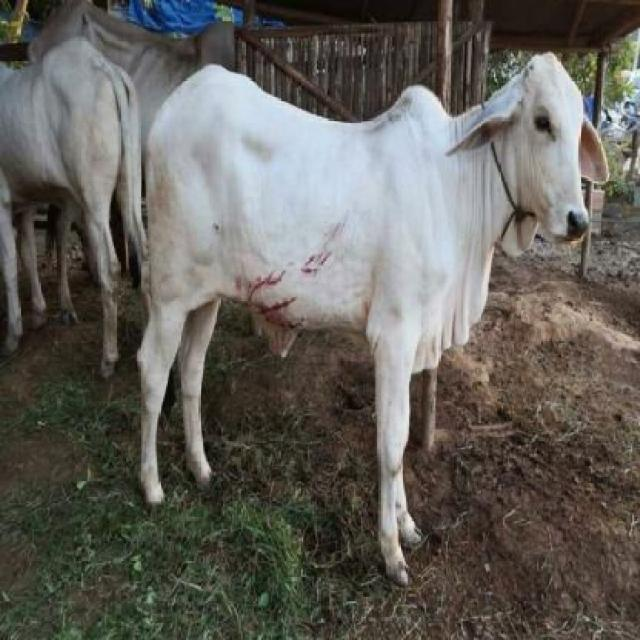cow: (142, 25, 580, 600), (0, 40, 140, 398)
